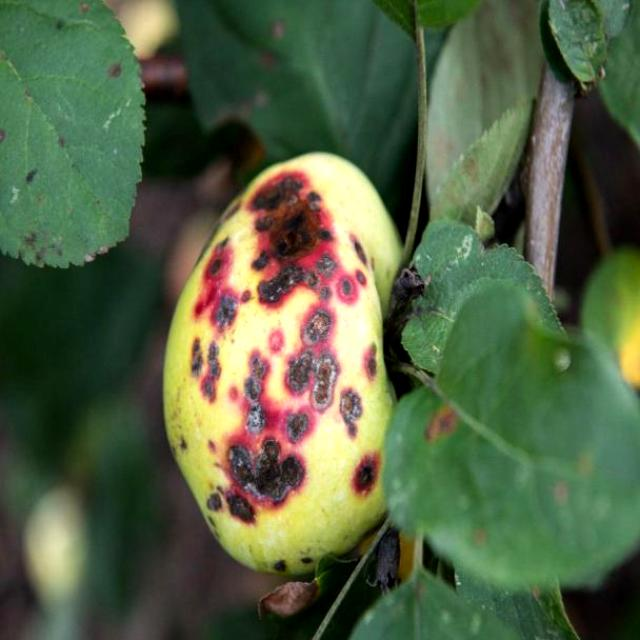SCAB: (154, 136, 418, 582)
